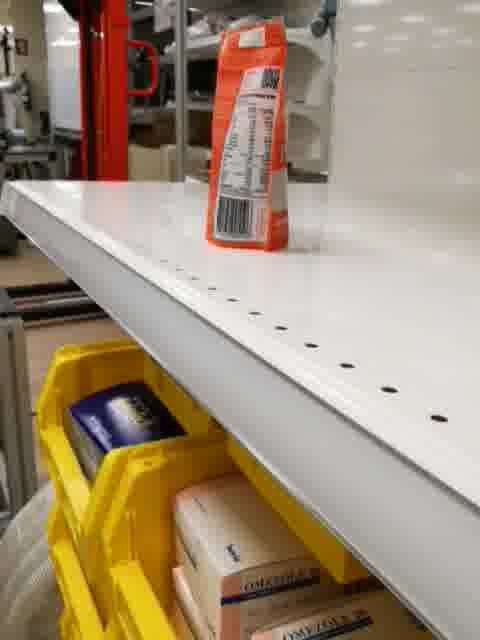whitechia: (203, 16, 292, 254)
